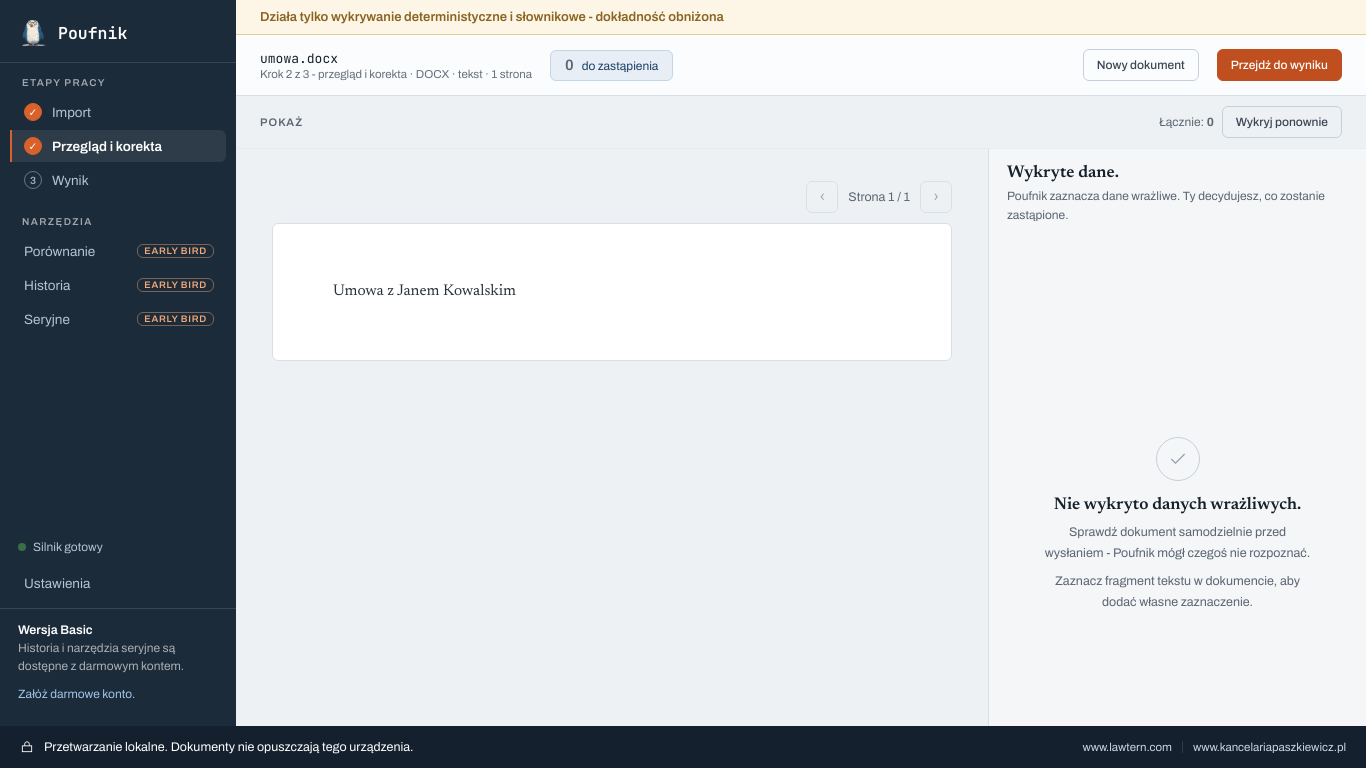
Test: App engine health › shows the office program's own message when rendering the PDF fails
This screenshot has width=1366, height=768.
Step 1. Click the button "3 Wynik" → [118, 180], box 10,164 -> 226,196
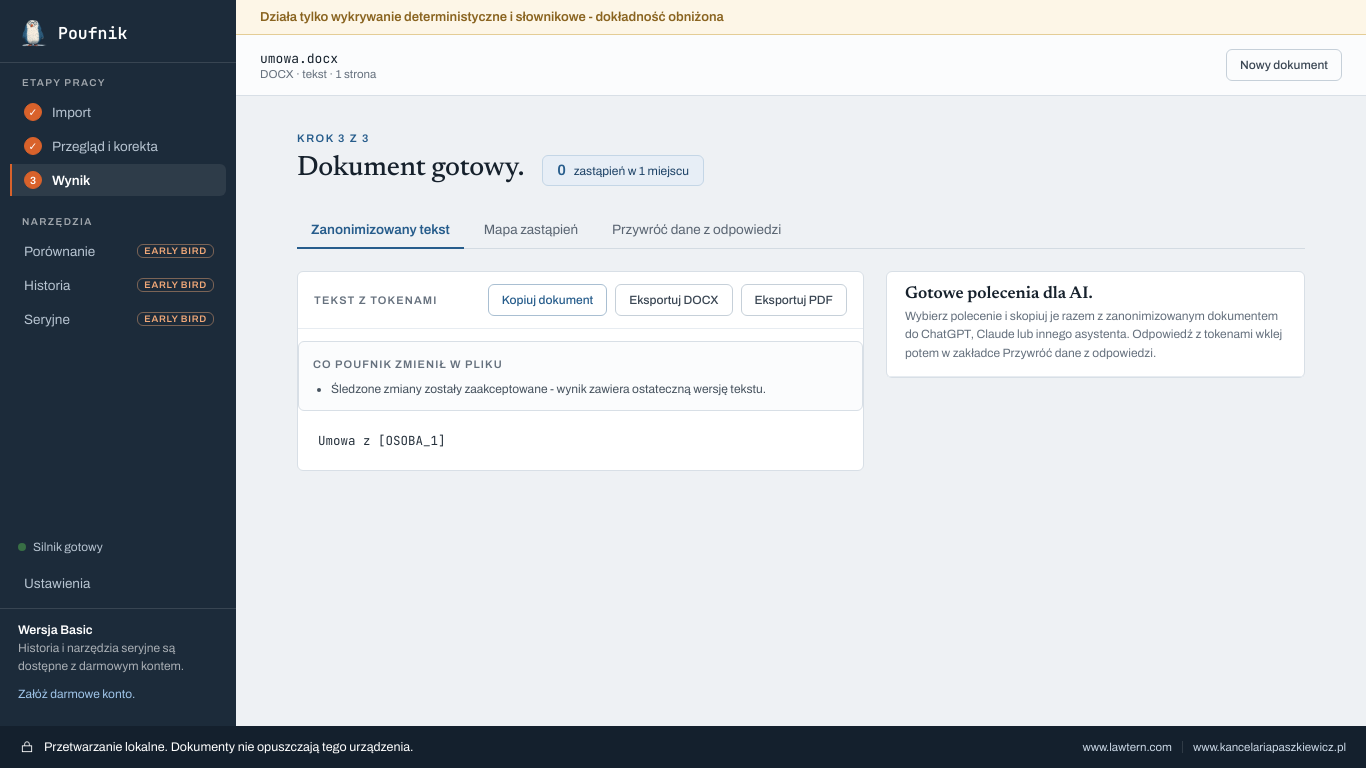
Step 2. Click the button "Eksportuj PDF" → [794, 300], box 740,284 -> 847,316
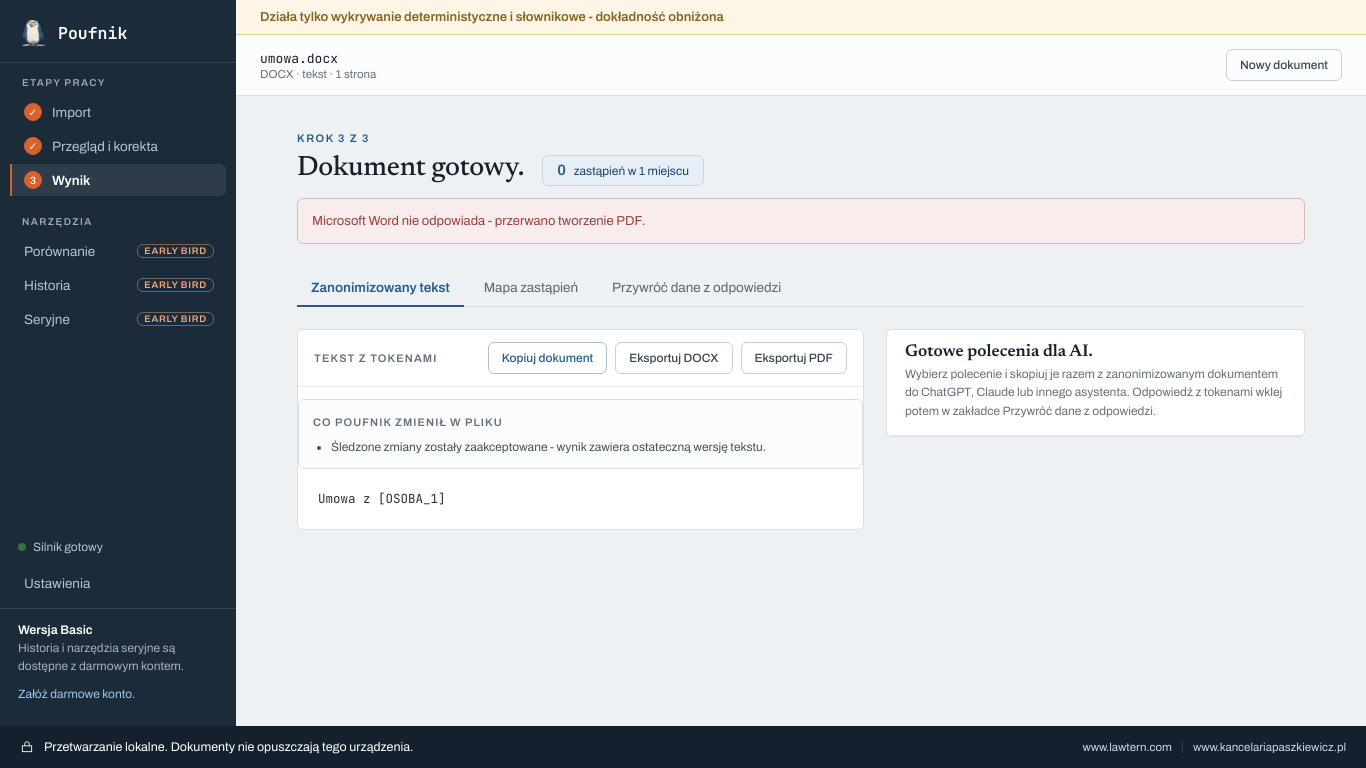
Result: the text "Microsoft Word nie odpowiada - przerwano tworzenie PDF." is shown at 297,198 -> 1305,244
